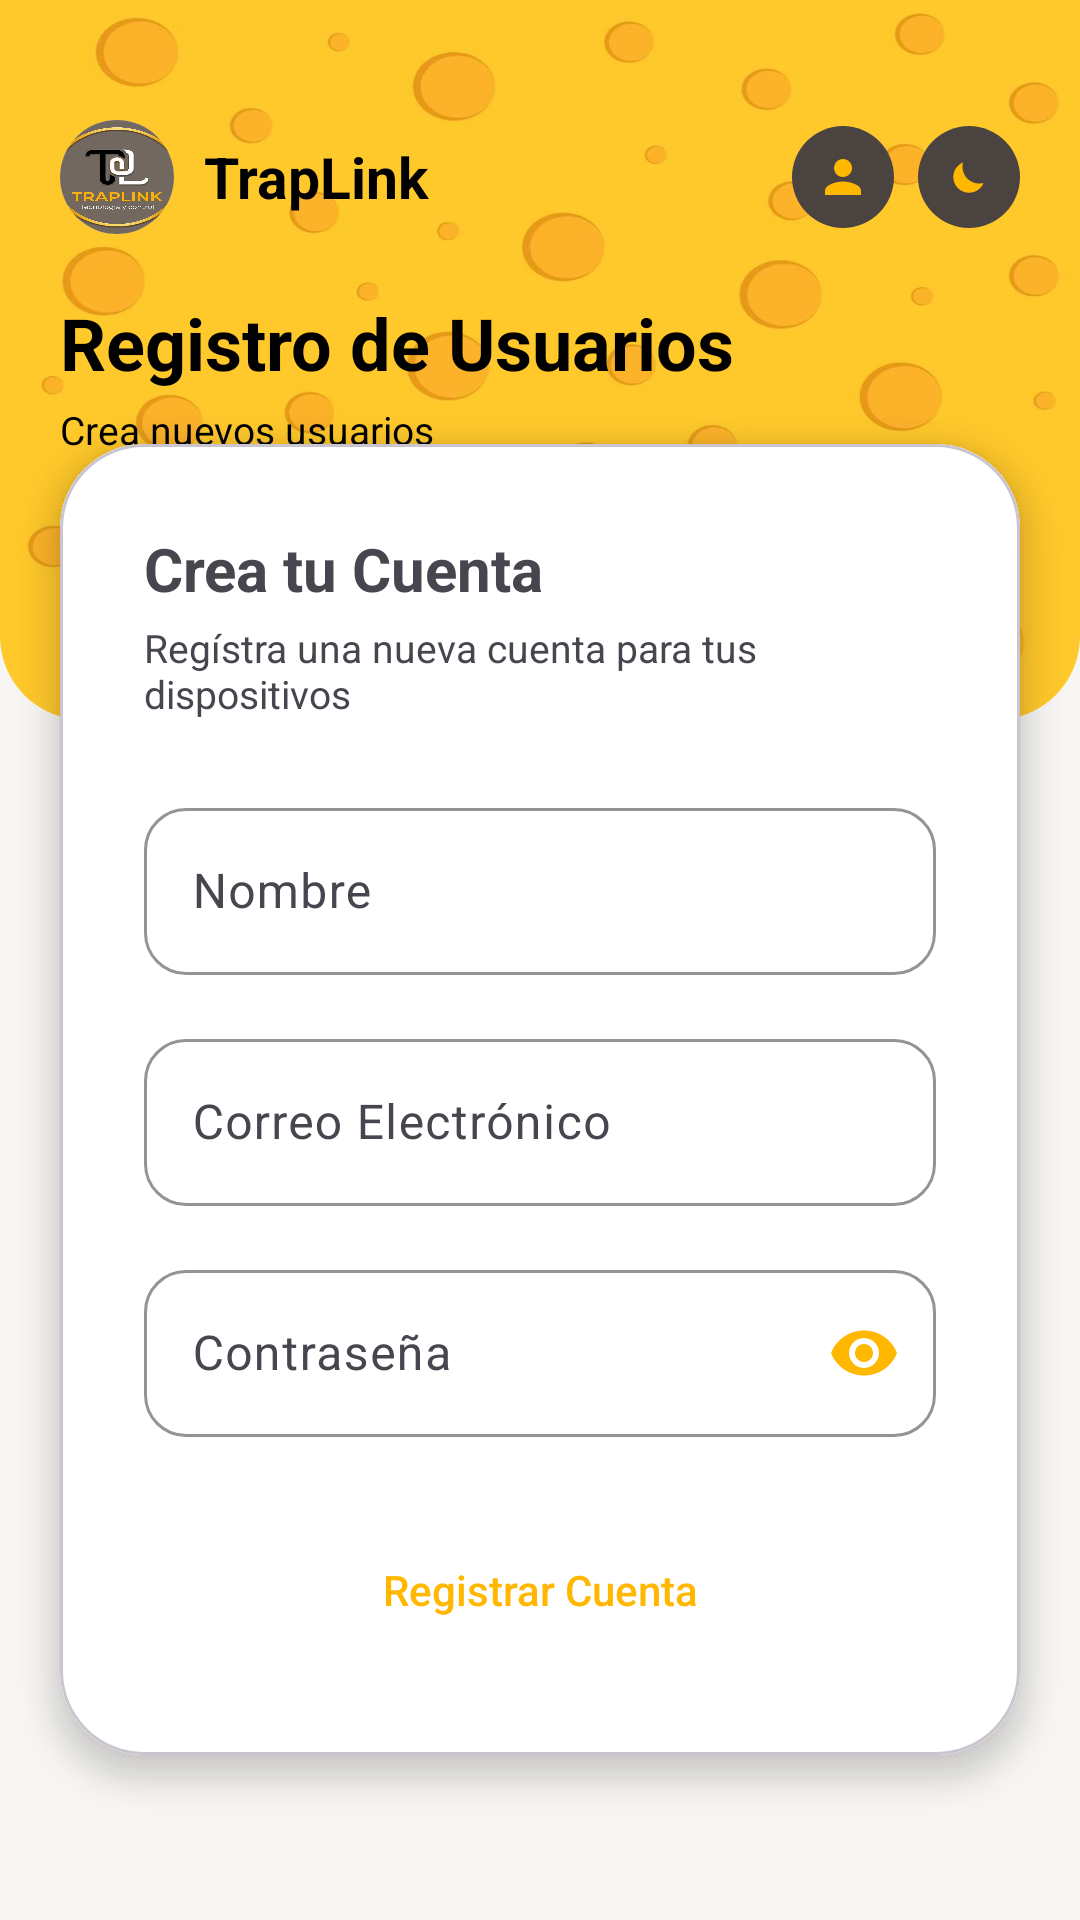

Screen size 1080×1920. Icon name, then its center in pixels as (x=x, y=y):
moon: (x=968, y=177)
user: (x=843, y=177)
